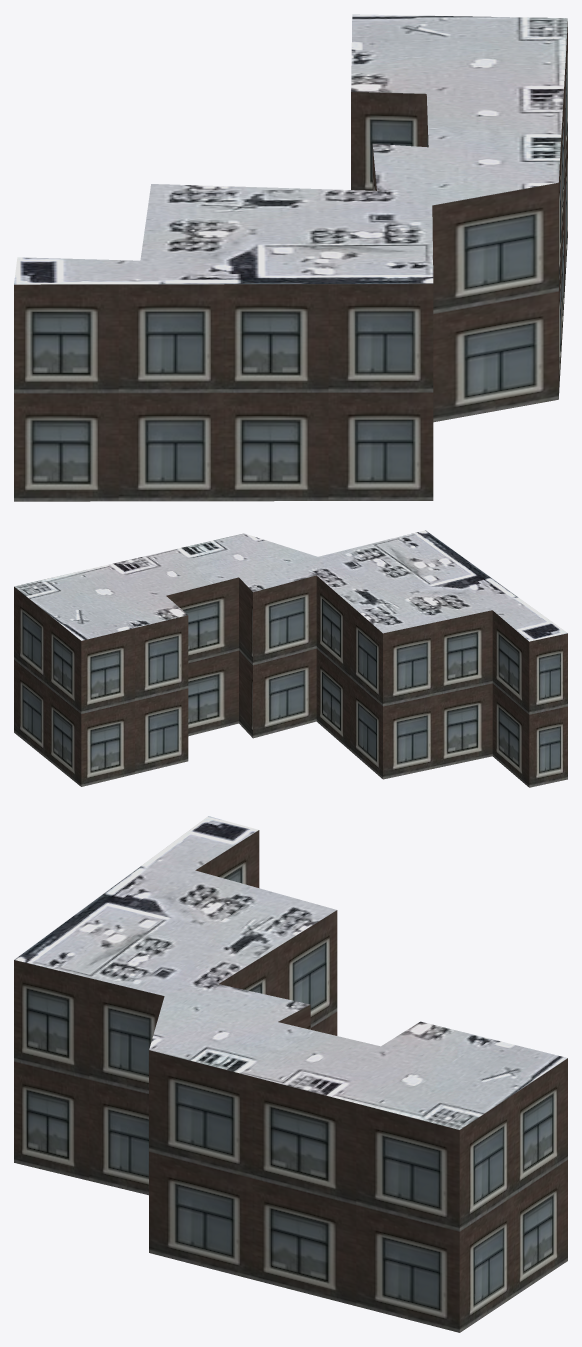
Rendered from ResTex__3056.fbx.
3 views of the same model, one above another, from view 1: azimuth 30°, elevation 25°; view 2: azimuth 150°, elevation 25°; view 3: azimuth 270°, elevation 25° (orthographic). The views are drawn at different scales.
Parts seen in each view (by area): view 1: CityEngineMaterial_16_m, CityEngineMaterial_15_m; view 2: CityEngineMaterial_16_m, CityEngineMaterial_15_m; view 3: CityEngineMaterial_16_m, CityEngineMaterial_15_m.
Boxes of the visible parts, x1,y1,x2,y2 form: CityEngineMaterial_16_m: [14, 21, 567, 501]; CityEngineMaterial_15_m: [14, 14, 567, 284]; CityEngineMaterial_16_m: [14, 575, 567, 787]; CityEngineMaterial_15_m: [14, 530, 567, 641]; CityEngineMaterial_16_m: [14, 830, 567, 1332]; CityEngineMaterial_15_m: [14, 816, 567, 1129].
Bounding box in the file's own units: 19.91 × 6 × 14.85.
Materials: 2 (2 with a texture image).
